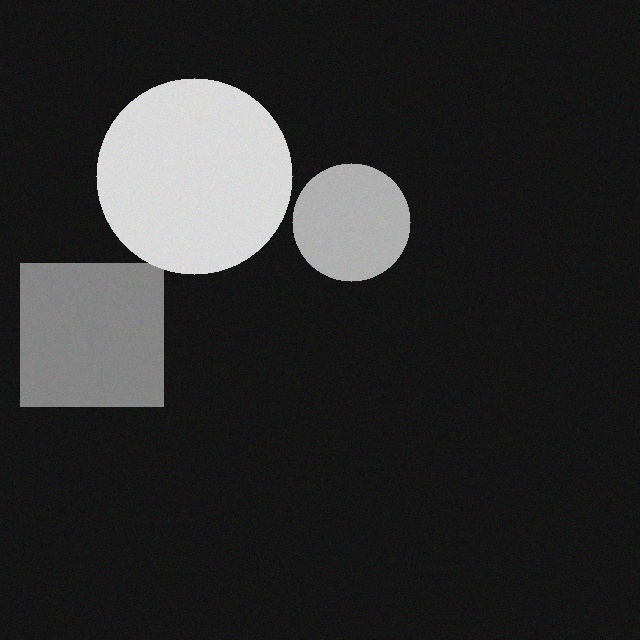circle: (101, 80, 297, 276), (297, 165, 415, 283)
square: (25, 265, 168, 408)
